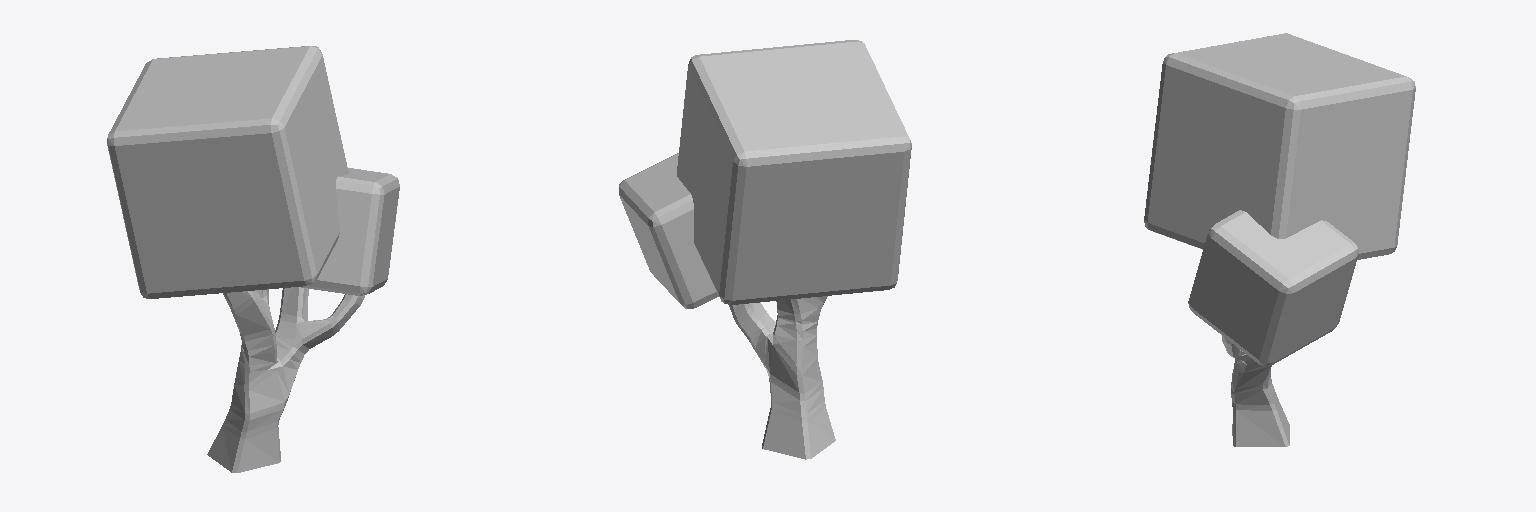
The model's file is Tree_2.obj.
3 renders of one model, left to right at view 1: azimuth 30°, elevation 25°; view 2: azimuth 150°, elevation 25°; view 3: azimuth 270°, elevation 25°, orthographic.
Visible parts, largest first — view 1: Tree_2_Cube.081; view 2: Tree_2_Cube.081; view 3: Tree_2_Cube.081.
Boxes of the visible parts, x1,y1,x2,y2 form: Tree_2_Cube.081: [107, 46, 399, 472]; Tree_2_Cube.081: [619, 40, 911, 459]; Tree_2_Cube.081: [1144, 33, 1415, 446].
Size of the model in its own units: 5.35 by 6.65 by 4.32.